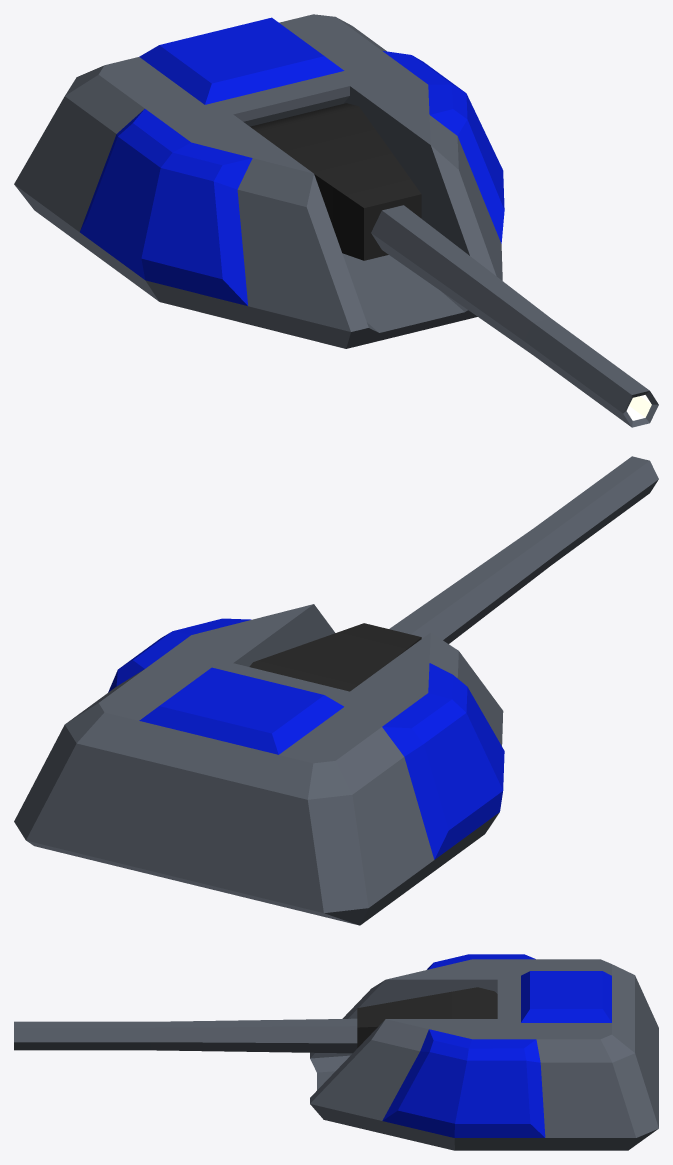
File: 666_med_flak_cannon.glb
3 views of the same model, one above another, from view 1: azimuth 30°, elevation 25°; view 2: azimuth 150°, elevation 25°; view 3: azimuth 270°, elevation 25° (orthographic). The views are drawn at different scales.
Visible parts, largest first — view 1: 66_med_flak_cannon_base, 66_med_flak_cannon_barrel; view 2: 66_med_flak_cannon_base, 66_med_flak_cannon_barrel; view 3: 66_med_flak_cannon_base, 66_med_flak_cannon_barrel.
Boxes of the visible parts, box(x1,y1,x2,y2) form: 66_med_flak_cannon_base: box(14, 14, 504, 348); 66_med_flak_cannon_barrel: box(250, 103, 658, 427); 66_med_flak_cannon_base: box(14, 604, 504, 925); 66_med_flak_cannon_barrel: box(249, 456, 658, 691); 66_med_flak_cannon_base: box(310, 954, 658, 1150); 66_med_flak_cannon_barrel: box(14, 987, 497, 1053).
Bounding box in the file's own units: 0.419 × 0.1691 × 0.9349.
